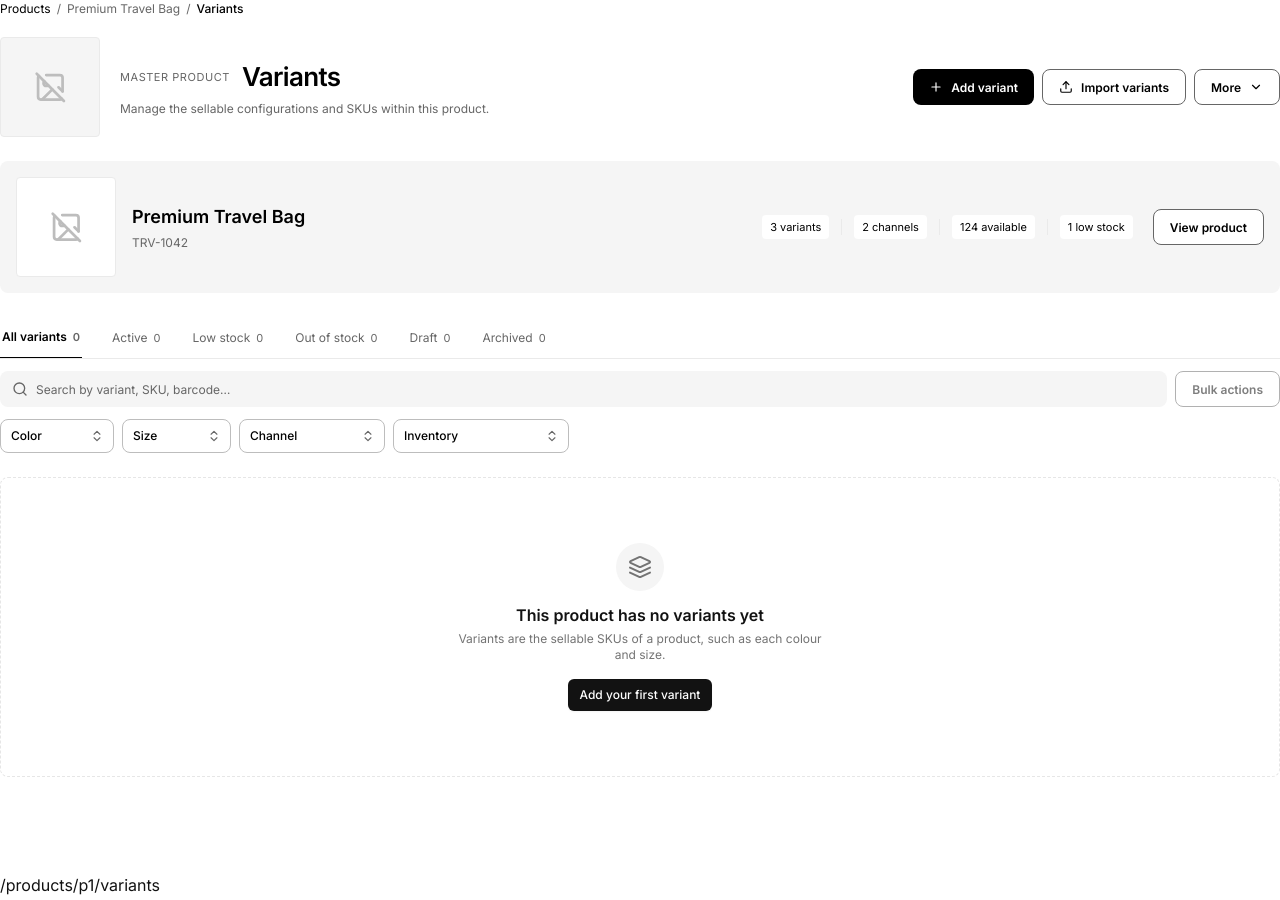
it: VariantsPage: the real grid › shows 'Add your first variant' for a product without variants
Expected: the heading "This product has no variants yet" is shown, [516,603,764,627]
Step 1. Click the button "Add your first variant" → [640, 695], box [568,679,712,711]
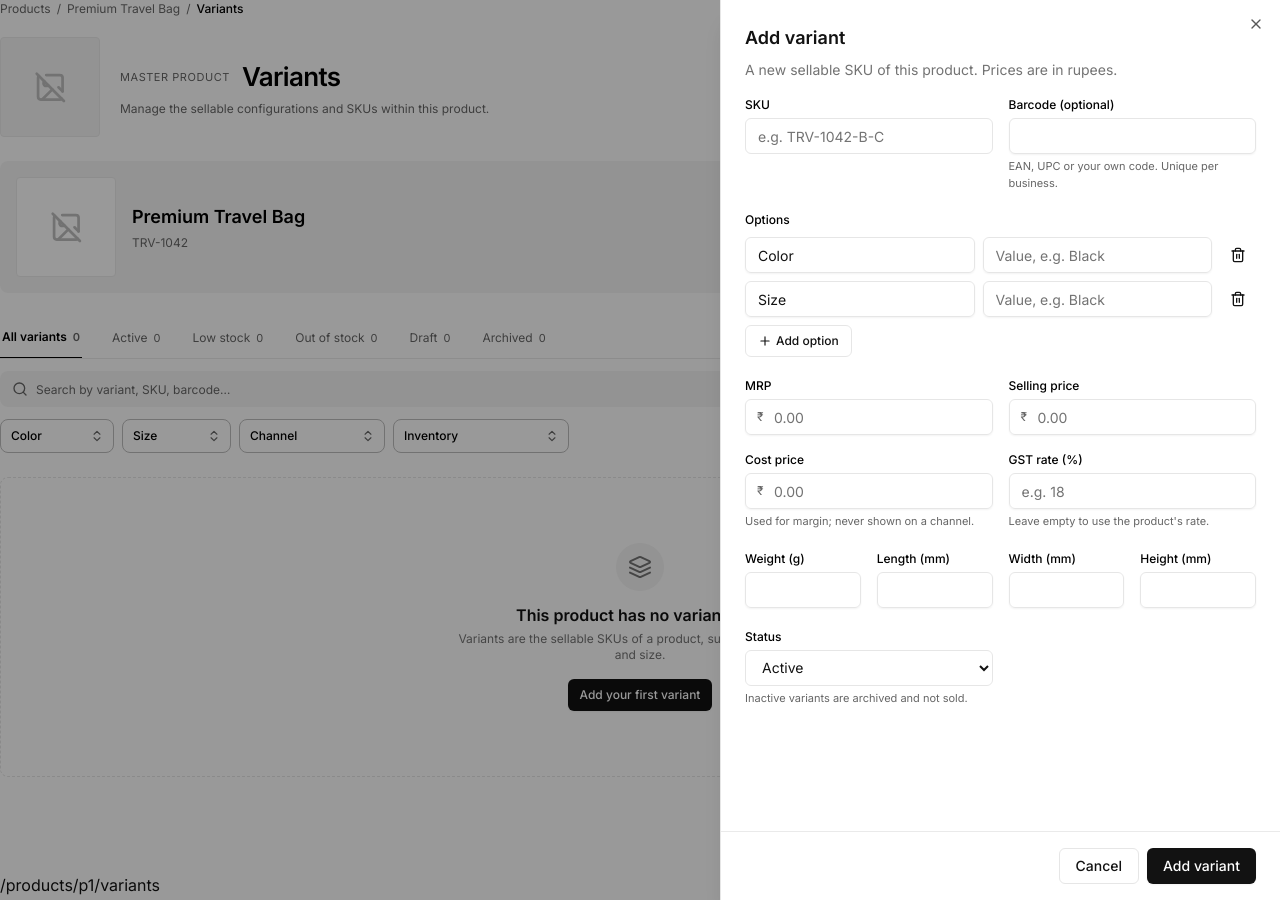
Expected: the heading "Add variant" is shown, [745,27,845,48]
